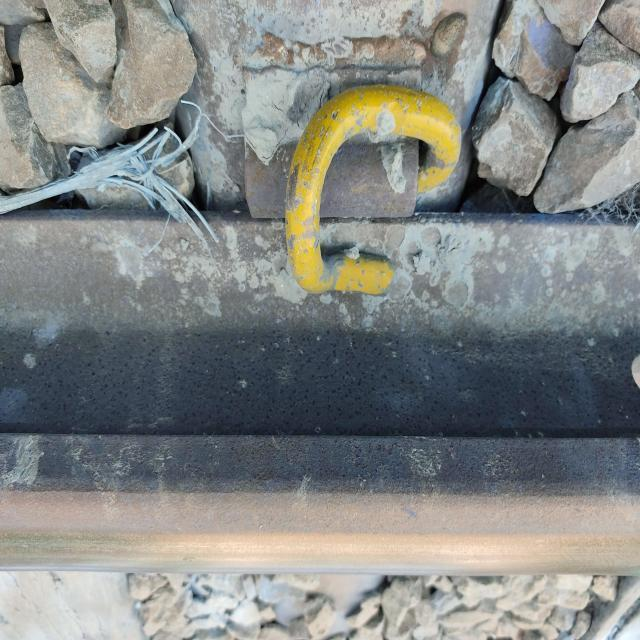Good Fasteners: (225, 0, 499, 294)
